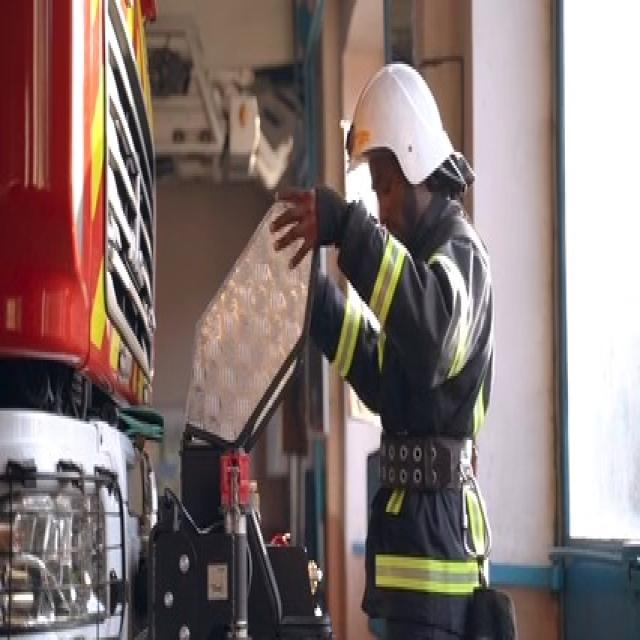Helmet_Wearer: (340, 46, 454, 250)
Jacket_Wearer: (312, 174, 495, 588)
Person: (278, 47, 494, 640)
